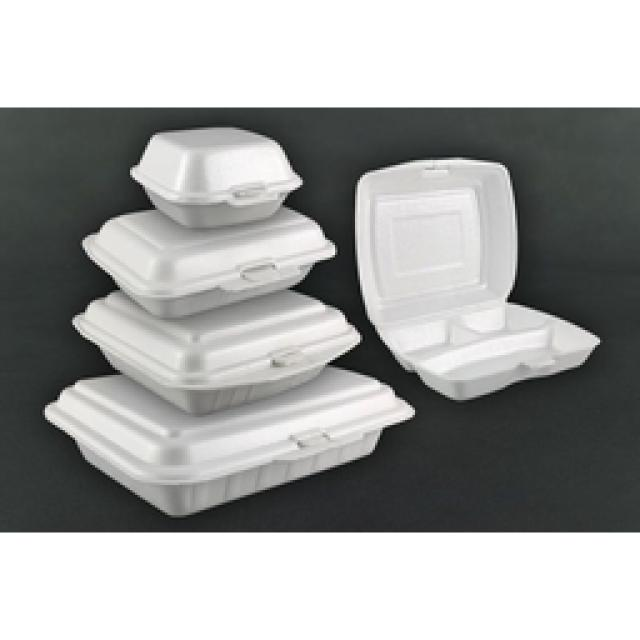styrofoam: (45, 128, 412, 512), (355, 158, 598, 400)
